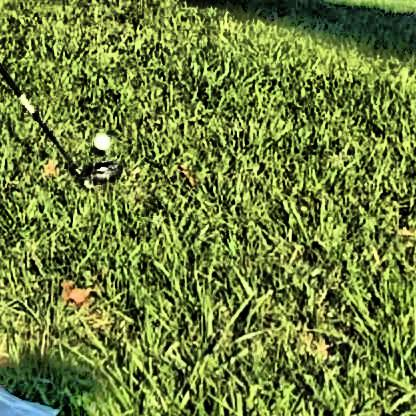golfball: (90, 129, 107, 146)
